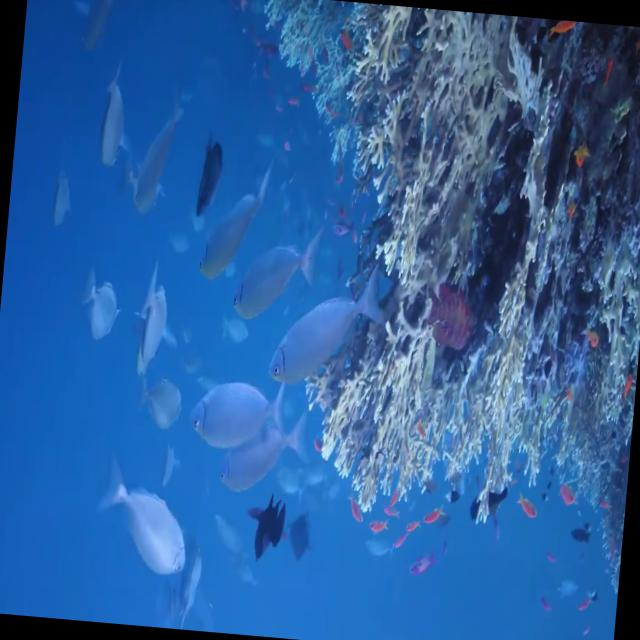fish: (263, 253, 387, 395), (98, 466, 193, 575), (226, 218, 324, 320), (216, 403, 316, 499), (193, 162, 274, 278), (185, 378, 288, 452), (417, 278, 479, 356), (134, 265, 171, 374), (96, 66, 133, 170), (79, 266, 124, 343), (238, 496, 286, 566), (189, 138, 227, 223)
